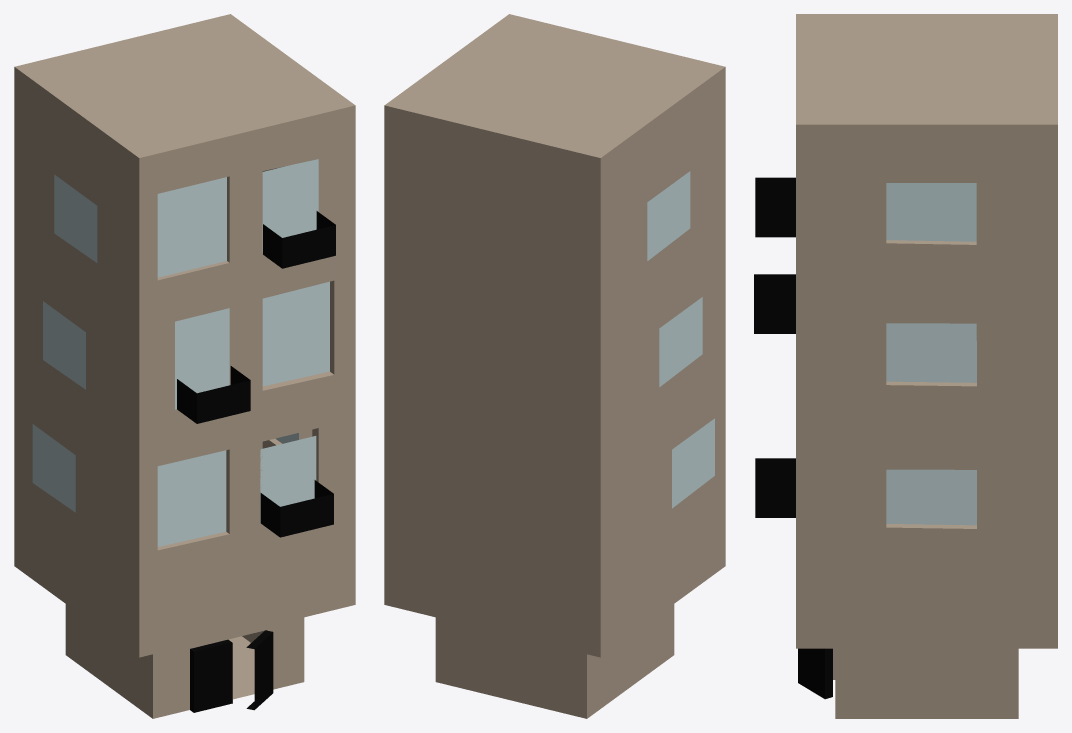
File: Flatgebouwbeige.fbx
3 renders of one model, left to right at view 1: azimuth 30°, elevation 25°; view 2: azimuth 150°, elevation 25°; view 3: azimuth 270°, elevation 25°, orthographic. The views are drawn at different scales.
Visible parts, largest first — view 1: Cube, Cube.005, Cube.004, Cube.006, Cube.014, Cube.013, Cube.012, Cube.007, Cube.017, Cube.015, Cube.016, Cube.002 (+3 smaller); view 2: Cube, Cube.016, Cube.015, Cube.017; view 3: Cube, Cube.010, Cube.009, Cube.011, Cube.002, Cube.001, Cube.003, Cube.008.
Part boxes in pixels (x1,y1,x2,y2): Cube: [14, 14, 355, 718]; Cube.005: [262, 281, 329, 386]; Cube.004: [157, 177, 226, 277]; Cube.006: [157, 450, 226, 546]; Cube.014: [175, 308, 229, 409]; Cube.013: [262, 159, 318, 251]; Cube.012: [260, 436, 316, 522]; Cube.007: [190, 639, 232, 712]; Cube.017: [32, 424, 75, 512]; Cube.015: [54, 174, 97, 262]; Cube.016: [43, 301, 85, 389]; Cube.002: [177, 366, 250, 423]; Cube: [384, 14, 725, 718]; Cube.016: [659, 297, 702, 387]; Cube.015: [647, 171, 690, 260]; Cube.017: [672, 418, 714, 508]; Cube: [796, 14, 1057, 718]; Cube.010: [886, 323, 976, 382]; Cube.009: [886, 183, 976, 241]; Cube.011: [886, 469, 976, 525]; Cube.002: [754, 274, 795, 333]; Cube.001: [755, 177, 795, 237]; Cube.003: [755, 458, 795, 517]; Cube.008: [798, 648, 832, 699].
Bounding box in the file's own units: 598 × 1368 × 617.
